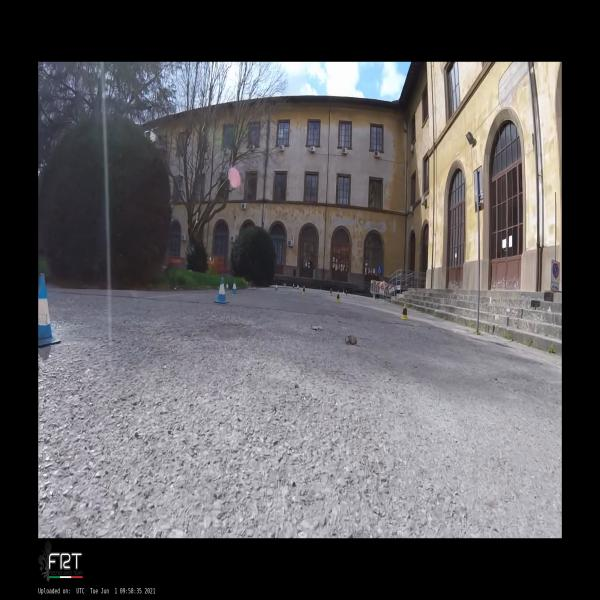blue_cone: (39, 274, 61, 348), (214, 276, 229, 304), (231, 280, 237, 294), (275, 284, 278, 290), (297, 283, 299, 290), (292, 283, 294, 288), (284, 282, 286, 287)
yellow_cone: (399, 301, 410, 320), (335, 291, 341, 304), (302, 285, 306, 295), (329, 288, 333, 297), (345, 290, 348, 296), (342, 288, 344, 294)
